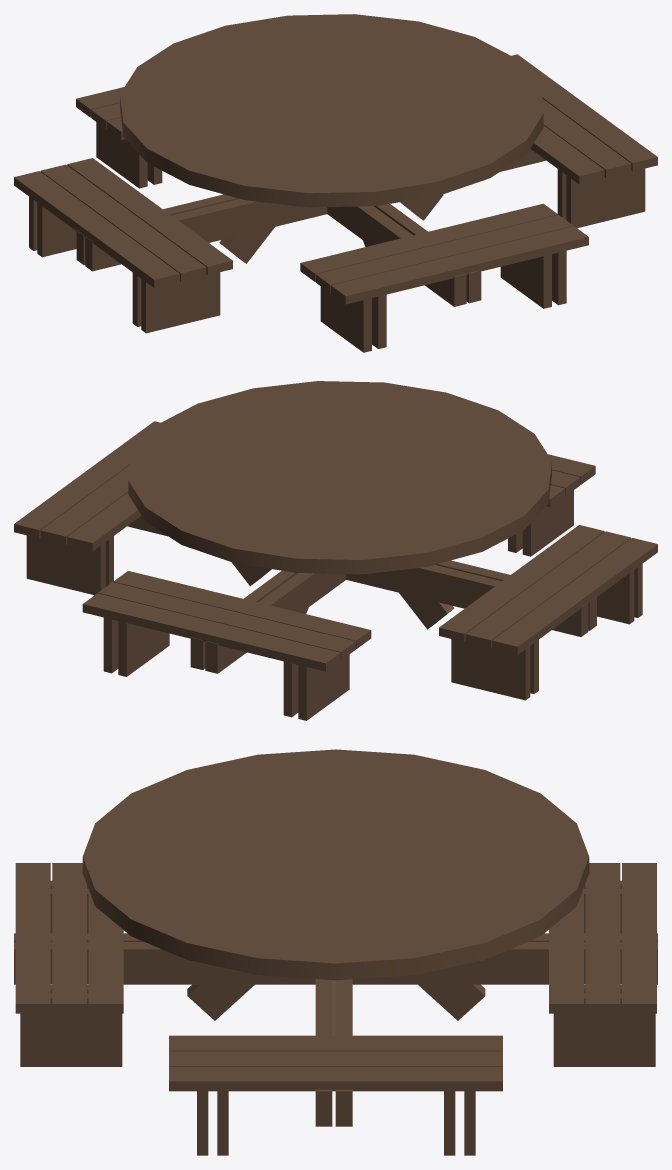
Rendered from Bench.fbx.
3 views of the same model, one above another, from view 1: azimuth 30°, elevation 25°; view 2: azimuth 150°, elevation 25°; view 3: azimuth 270°, elevation 25° (orthographic). The views are drawn at different scales.
Visible parts, largest first — view 1: pCylinder2, pCube25, pCube24, pCube27, pCube3, pCube26, pCube1, pCube2, pCube4; view 2: pCylinder2, pCube26, pCube24, pCube27, pCube4, pCube25, pCube1, pCube2, pCube3; view 3: pCylinder2, pCube27, pCube25, pCube26, pCube2, pCube3, pCube4.
Boxes of the visible parts, x1,y1,x2,y2 form: pCylinder2: (120, 14, 543, 263); pCube25: (300, 203, 588, 352); pCube24: (14, 158, 232, 333); pCube27: (511, 54, 657, 228); pCube3: (85, 149, 545, 271); pCube26: (76, 87, 162, 188); pCube1: (327, 206, 466, 306); pCube2: (374, 204, 481, 303); pCube4: (76, 194, 239, 264); pCylinder2: (128, 381, 551, 629); pCube26: (82, 571, 371, 720); pCube24: (439, 525, 657, 700); pCube27: (14, 421, 160, 595); pCube4: (127, 515, 588, 636); pCube25: (508, 454, 595, 556); pCube1: (205, 573, 346, 673); pCube2: (190, 570, 297, 669); pCube3: (435, 560, 596, 630); pCylinder2: (82, 749, 589, 1035); pCube27: (169, 1035, 502, 1155); pCube25: (15, 863, 123, 1066); pCube26: (549, 863, 656, 1066); pCube2: (14, 942, 657, 984); pCube3: (315, 979, 332, 1126); pCube4: (335, 979, 352, 1126).
Size of the model in its own units: 6.89 by 1.76 by 6.38.
